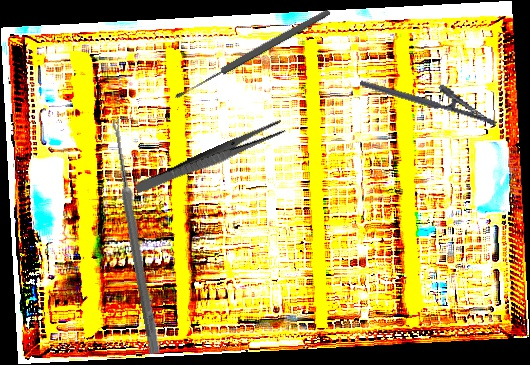Dressing Forceps: (133, 118, 287, 199)
Needle Holder: (359, 60, 503, 129)
Surgical Spoon: (172, 6, 333, 102), (108, 117, 162, 355)
